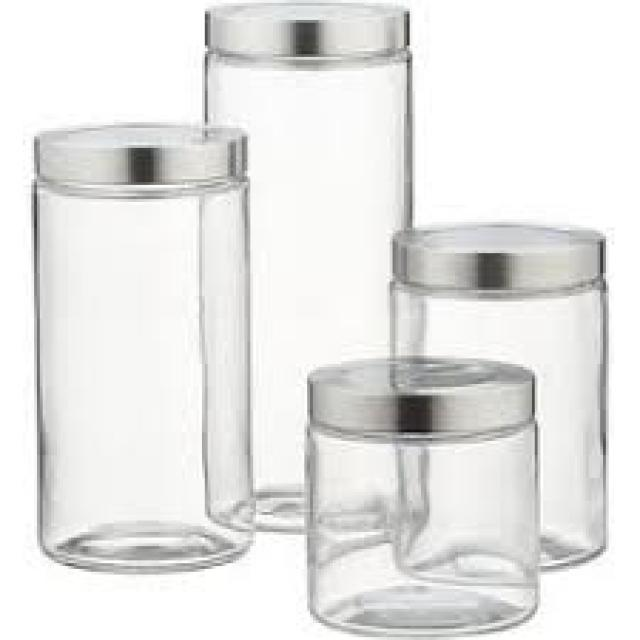Dry Waste: (25, 117, 261, 580), (302, 351, 542, 636)
